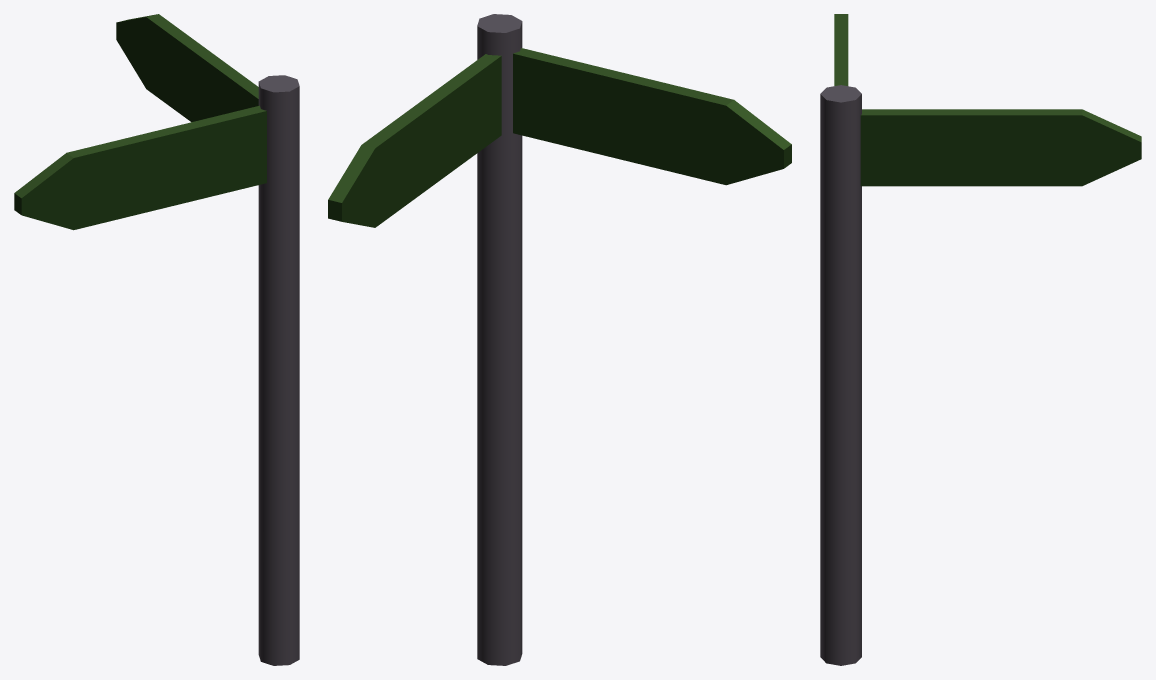
File: Sign_02.fbx
3 renders of one model, left to right at view 1: azimuth 30°, elevation 25°; view 2: azimuth 150°, elevation 25°; view 3: azimuth 270°, elevation 25°, orthographic. The views are drawn at different scales.
Visible parts, largest first — view 1: Sign_02; view 2: Sign_02; view 3: Sign_02.
Boxes of the visible parts, x1,y1,x2,y2 form: Sign_02: [14, 14, 299, 665]; Sign_02: [328, 14, 791, 665]; Sign_02: [820, 14, 1141, 665].
Bounding box in the file's own units: 173 × 338 × 175.
